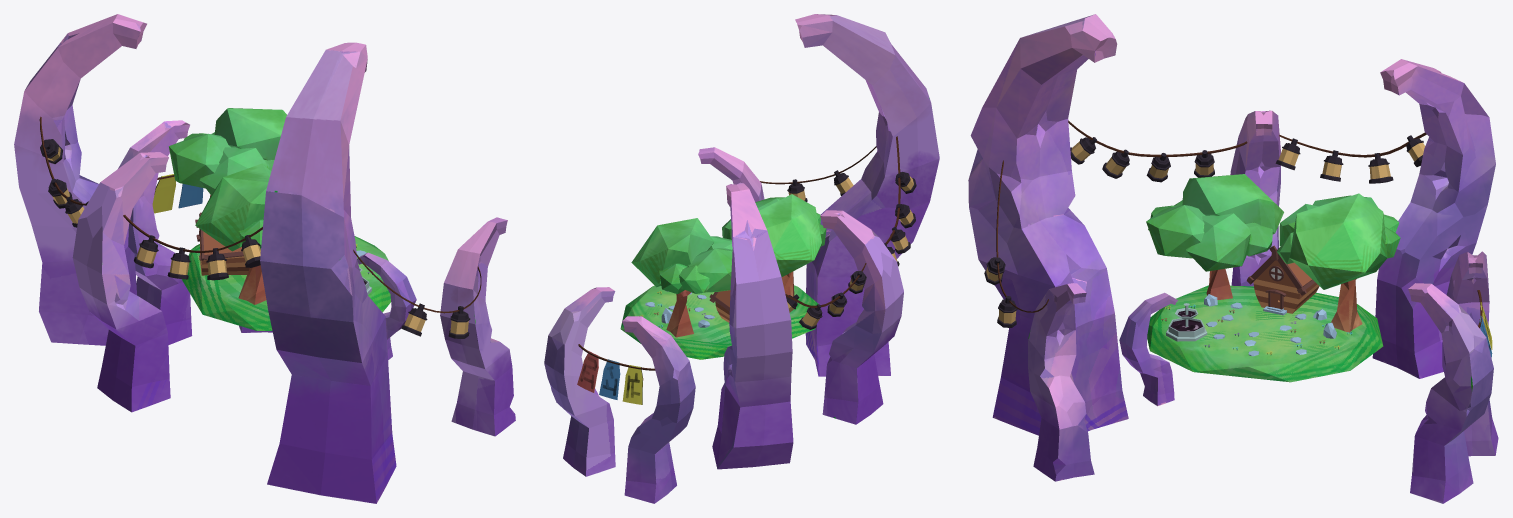
The model's file is poulpe.glb.
3 views of the same model, side by side, from view 1: azimuth 30°, elevation 25°; view 2: azimuth 150°, elevation 25°; view 3: azimuth 270°, elevation 25° (orthographic). The views are drawn at different scales.
Parts seen in each view (by area): view 1: Cube.002; view 2: Cube.002; view 3: Cube.002.
Boxes of the visible parts, x1,y1,x2,y2 form: Cube.002: [14, 14, 515, 503]; Cube.002: [544, 14, 939, 503]; Cube.002: [968, 14, 1498, 503].
Bounding box in the file's own units: 40.57 × 50.78 × 57.97.
Materials: 19 (5 with a texture image).
